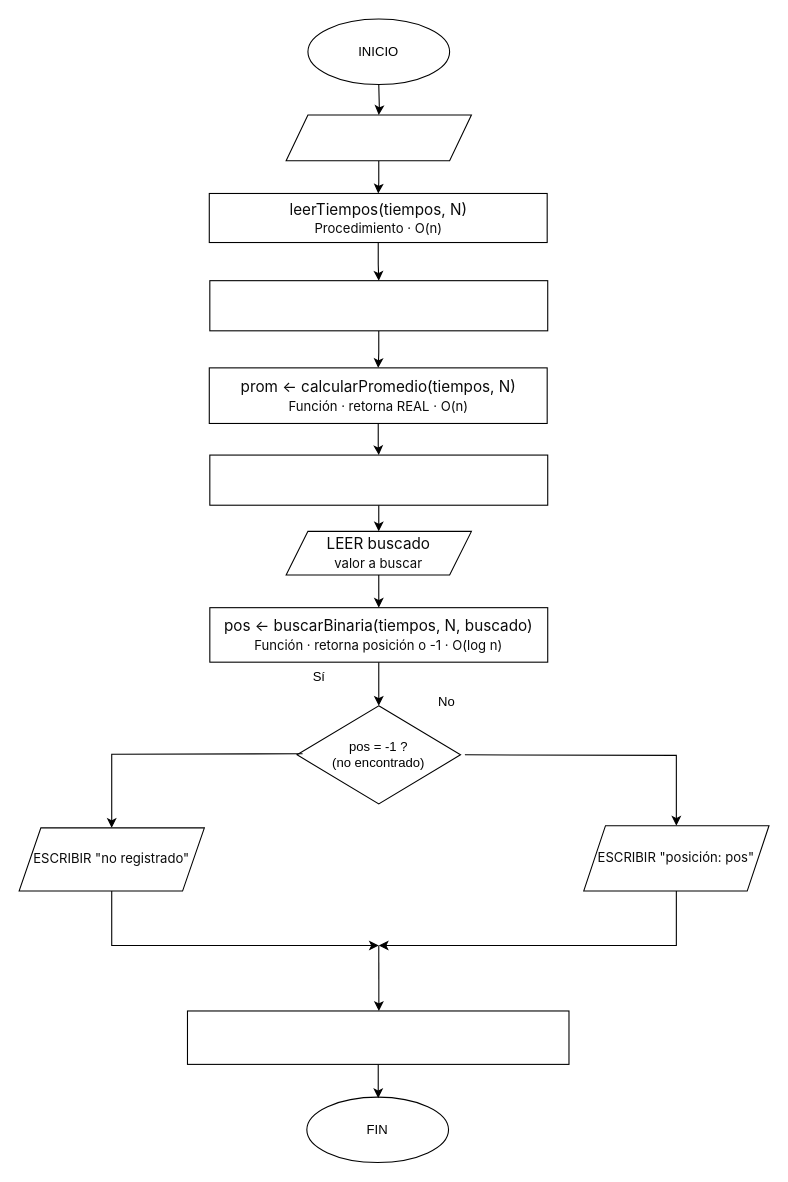
The diagram is 788 pixels wide and 1182 high, and some of its shapes have lost their labels. Each missing label, with the centre of its shape:
"bubbleSort(tiempos, N) Procedimiento · O(n²)" goes at point 378,305.
"LEER N (validado)" goes at point 378,137.
"lentas ← contarLentas(tiempos, N) Función · retorna ENTERO · O(n)" goes at point 378,479.
"mostrarResultados(tiempos,N,prom,lentas,pos,buscado) Procedimiento · O(n)" goes at point 377,1037.
